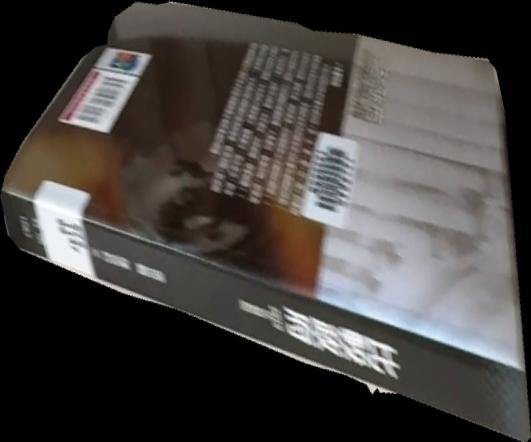flat: (1, 1, 531, 442)
